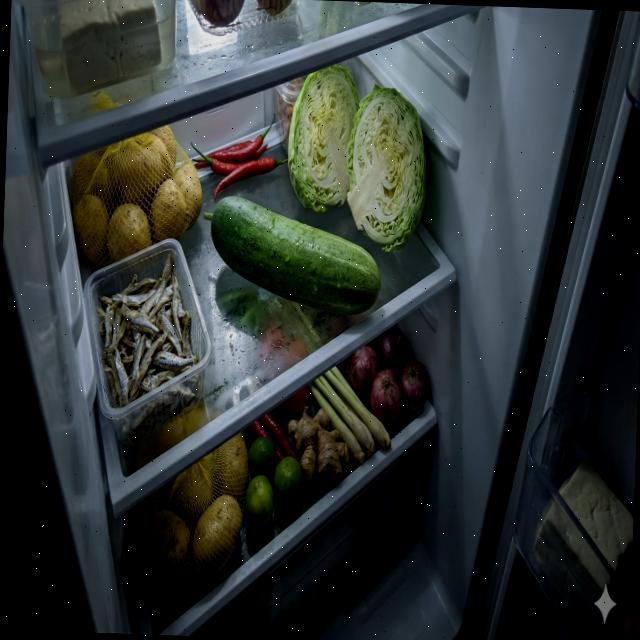anchovies: (90, 248, 206, 446)
cabbage: (342, 82, 430, 254), (286, 60, 362, 214)
chili: (188, 110, 289, 202), (246, 412, 302, 464)
cucumber: (208, 195, 384, 316)
ginger: (285, 405, 351, 484)
lemongrass: (307, 364, 393, 464)
lime: (246, 435, 304, 531)
onion: (346, 322, 431, 427)
potato: (122, 426, 251, 594), (69, 120, 204, 270)
tofu: (53, 0, 164, 96)
